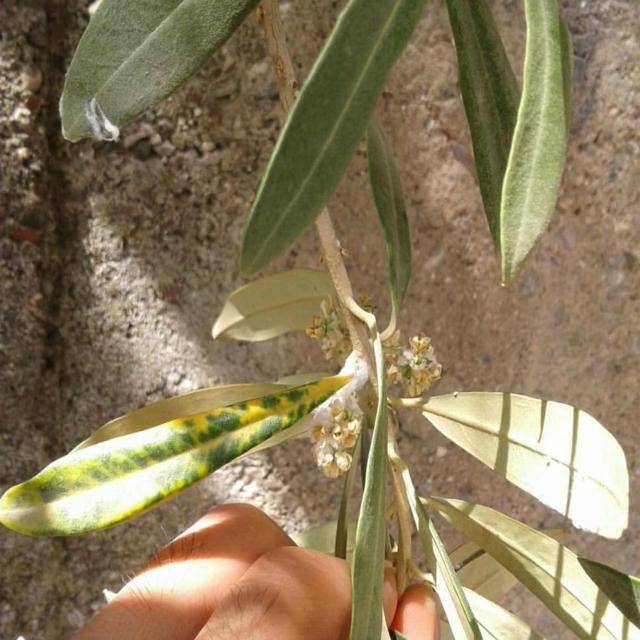Peacock Eye: (0, 374, 351, 536)
Psyllid: (309, 351, 371, 478), (385, 333, 442, 396), (81, 85, 119, 142)
